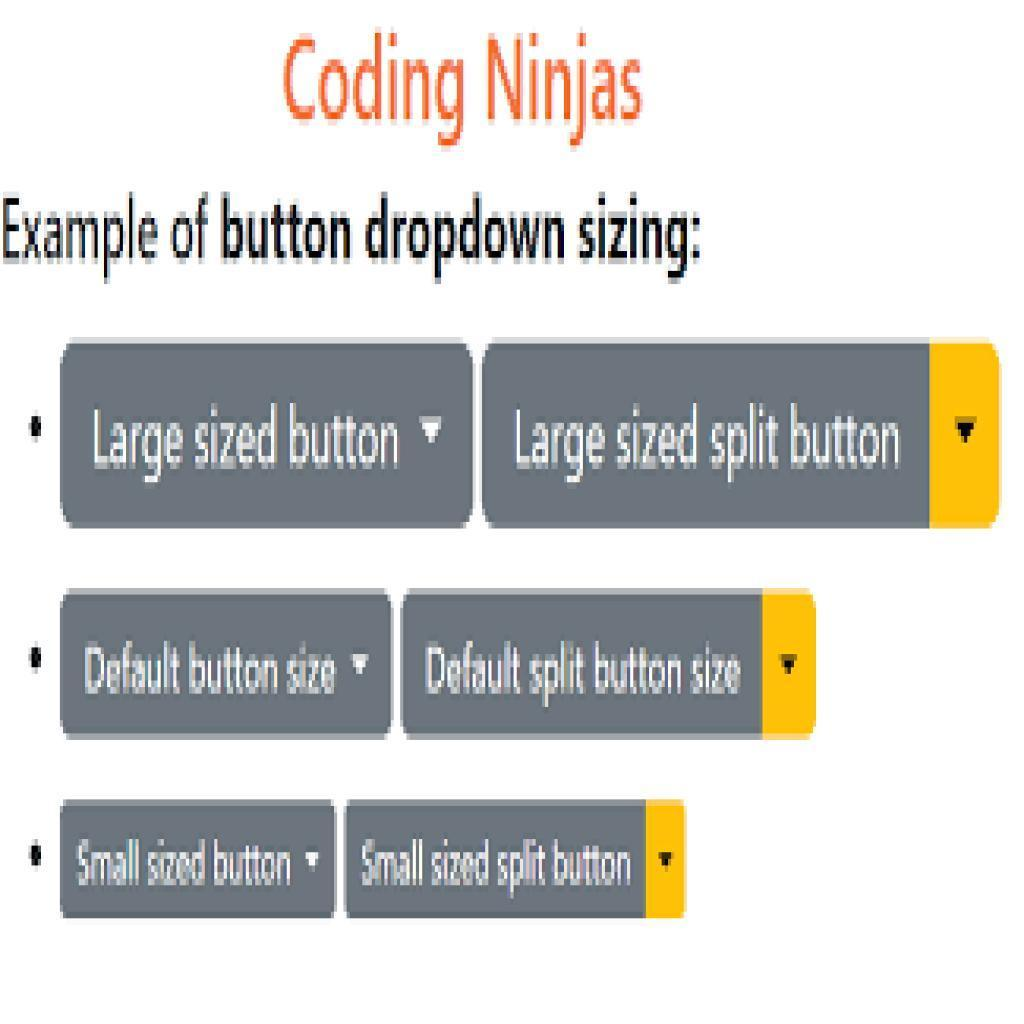dropdown: (482, 345, 1003, 530), (63, 345, 475, 529), (404, 590, 817, 741), (61, 591, 395, 742), (346, 800, 689, 922), (60, 801, 339, 918)
